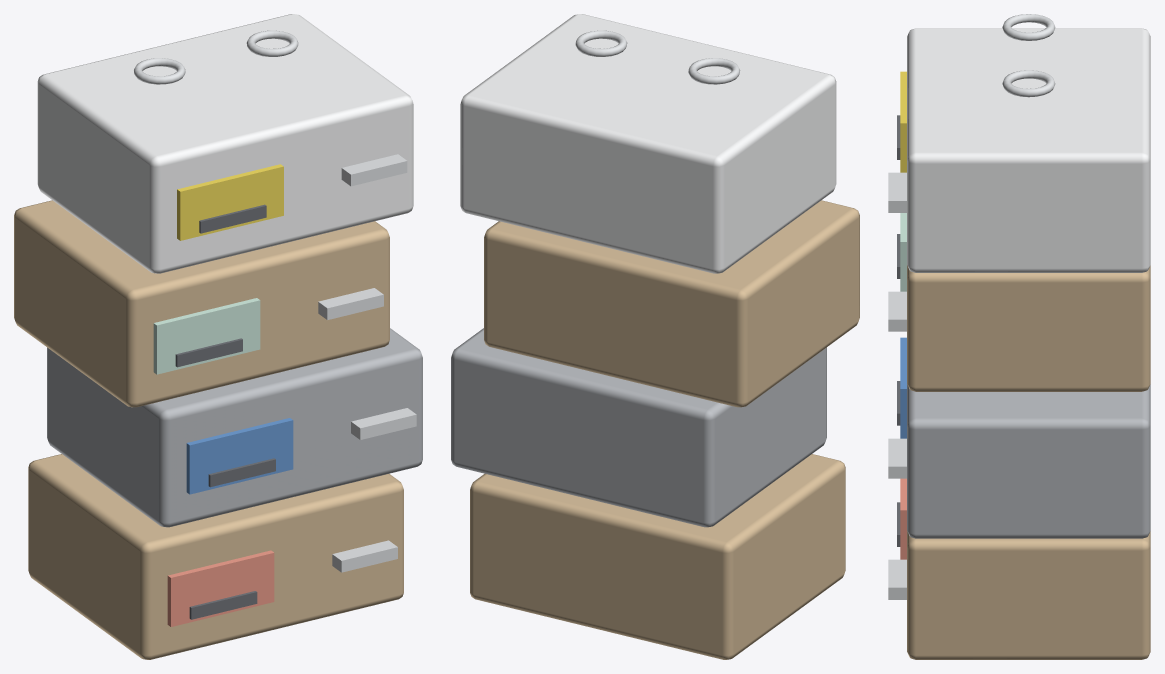
Rendered from model_boxes.glb.
3 renders of one model, left to right at view 1: azimuth 30°, elevation 25°; view 2: azimuth 150°, elevation 25°; view 3: azimuth 270°, elevation 25°, orthographic. The views are drawn at different scales.
Visible parts, largest first — view 1: model-box-stack; view 2: model-box-stack; view 3: model-box-stack.
Boxes of the visible parts, x1,y1,x2,y2 form: model-box-stack: (14,14,422,659); model-box-stack: (451,14,859,659); model-box-stack: (888,14,1150,659).
Bounding box in the file's own units: 0.315 × 0.544 × 0.237.
